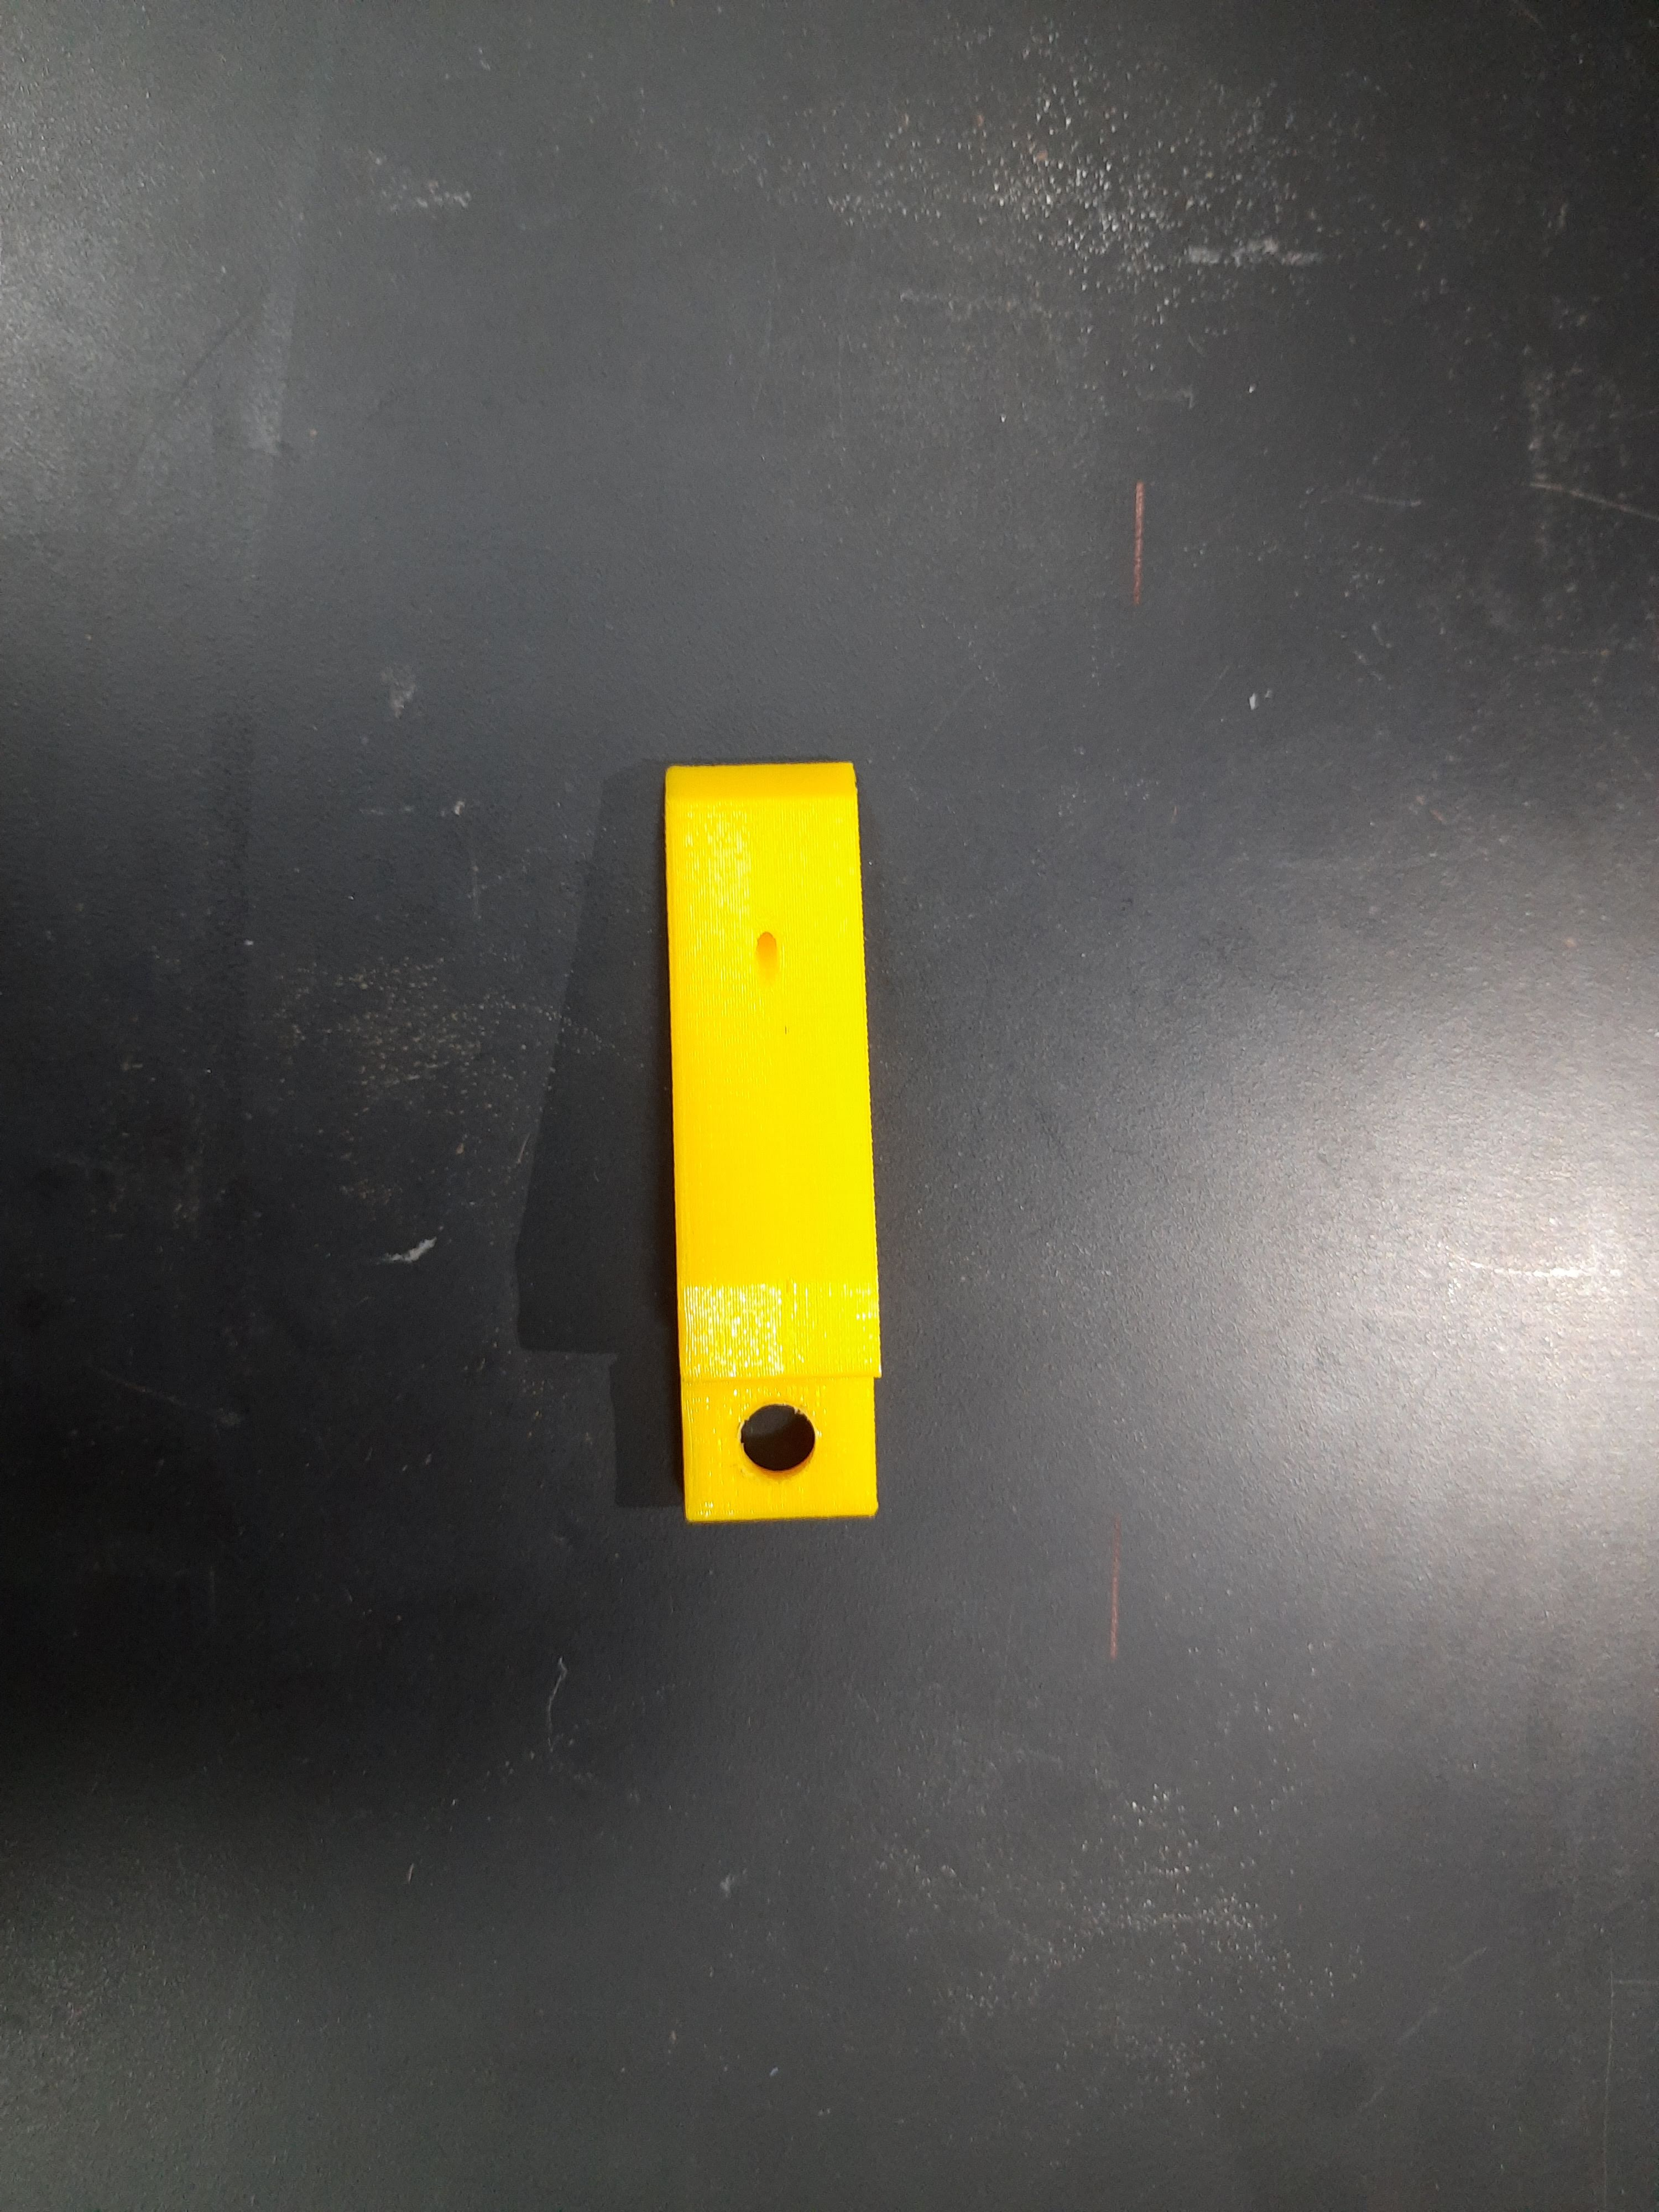YELLOW: (659, 749, 890, 1512)
